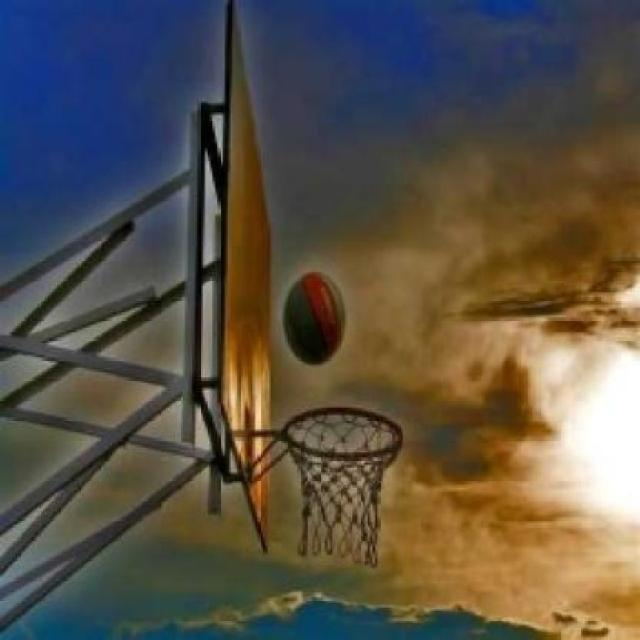basketball: (279, 260, 347, 374)
rim: (286, 406, 402, 570)
